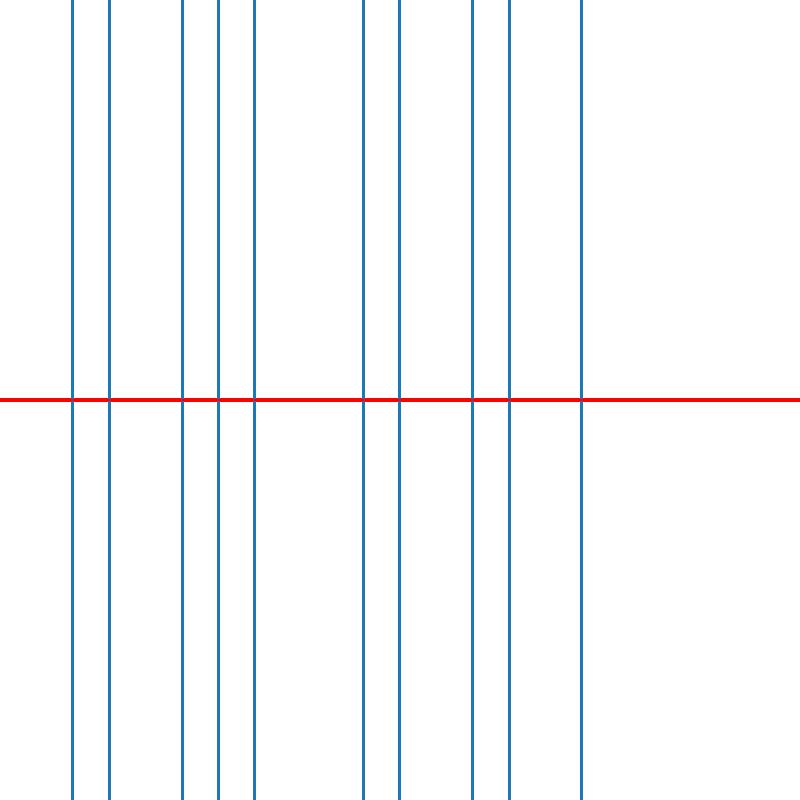root: (250, 396, 258, 404), (214, 396, 221, 404), (578, 396, 585, 404), (505, 396, 512, 404), (469, 396, 476, 404), (69, 396, 76, 404), (105, 396, 112, 404), (396, 396, 403, 404), (360, 396, 367, 404), (178, 396, 185, 404)
